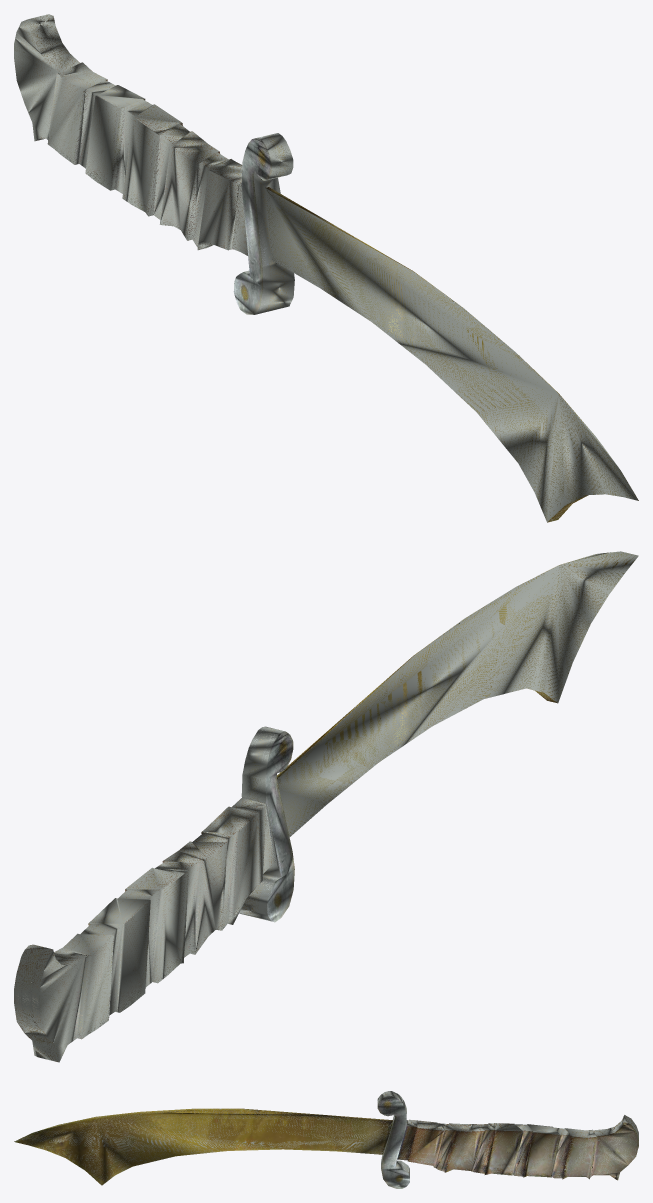
Rendered from model_align.obj.
3 views of the same model, one above another, from view 1: azimuth 30°, elevation 25°; view 2: azimuth 150°, elevation 25°; view 3: azimuth 270°, elevation 25° (orthographic). The views are drawn at different scales.
Bounding box in the file's own units: 0.00693 × 0.0331 × 0.2064.
10 materials, 10 textured.
